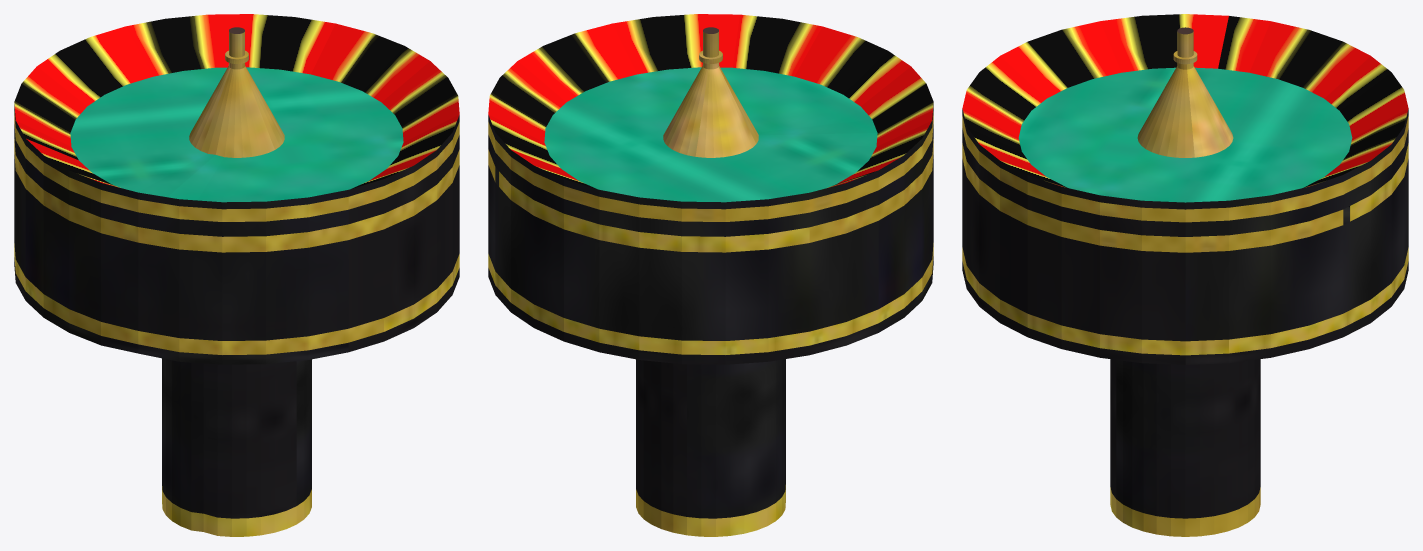
The model's file is mesinha de apostas.fbx.
3 renders of one model, left to right at view 1: azimuth 30°, elevation 25°; view 2: azimuth 150°, elevation 25°; view 3: azimuth 270°, elevation 25°, orthographic.
Parts seen in each view (by area): view 1: Plano.045; view 2: Plano.045; view 3: Plano.045.
Part boxes in pixels (x1,y1,x2,y2): Plano.045: [14, 14, 459, 536]; Plano.045: [488, 14, 933, 536]; Plano.045: [962, 14, 1408, 536].
Size of the model in its own units: 142 by 167 by 142.
1 material, 1 textured.
